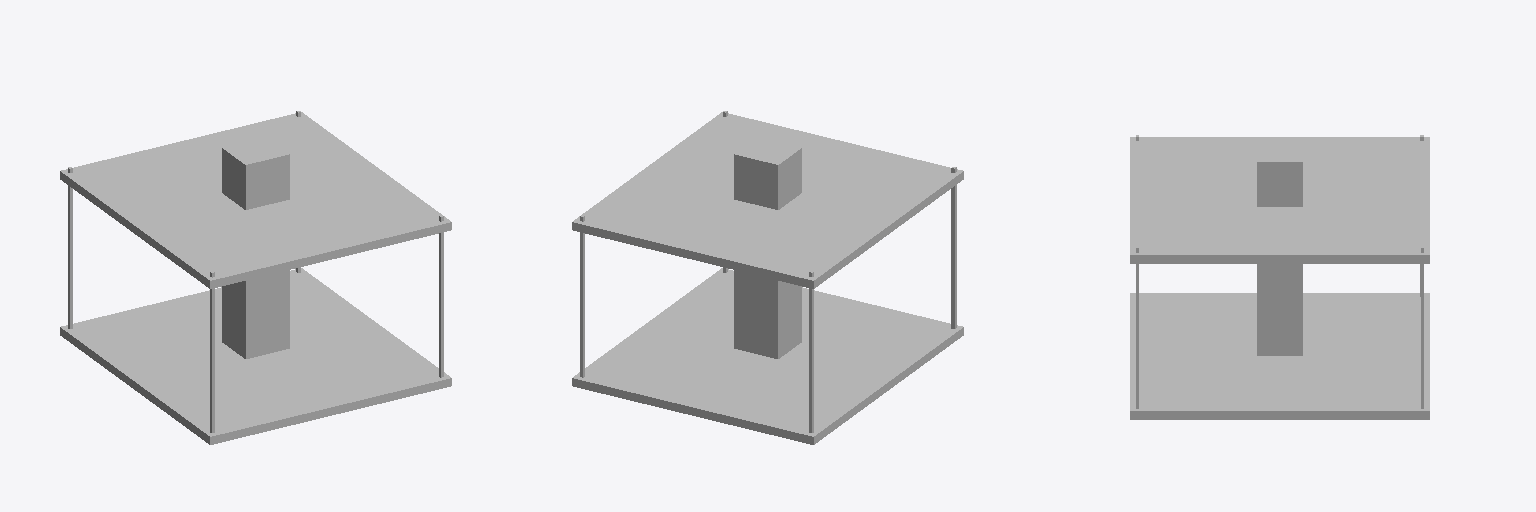
The model's file is cell3.2.hb.obj.
3 views of the same model, side by side, from view 1: azimuth 30°, elevation 25°; view 2: azimuth 150°, elevation 25°; view 3: azimuth 270°, elevation 25° (orthographic).
Parts seen in each view (by area): view 1: floor.002_Cube.005, floor.003_Cube.020, Cube.003_Cube.007, Cube.004_Cube.022, Cube.006_Cube.024, Cube.005_Cube.023; view 2: floor.002_Cube.005, floor.003_Cube.020, Cube.003_Cube.007, Cube.006_Cube.024, Cube.002_Cube.021, Cube.005_Cube.023; view 3: floor.002_Cube.005, floor.003_Cube.020, Cube.003_Cube.007.
Boxes of the visible parts, <box> form: floor.002_Cube.005: <box>60,112,451,288</box>; floor.003_Cube.020: <box>60,268,451,444</box>; Cube.003_Cube.007: <box>222,137,289,358</box>; Cube.004_Cube.022: <box>439,215,443,377</box>; Cube.006_Cube.024: <box>210,271,214,432</box>; Cube.005_Cube.023: <box>68,167,72,328</box>; floor.002_Cube.005: <box>572,112,963,288</box>; floor.003_Cube.020: <box>572,268,963,444</box>; Cube.003_Cube.007: <box>734,137,801,358</box>; Cube.006_Cube.024: <box>951,167,956,328</box>; Cube.002_Cube.021: <box>580,215,584,377</box>; Cube.005_Cube.023: <box>809,271,813,432</box>; floor.002_Cube.005: <box>1130,137,1429,263</box>; floor.003_Cube.020: <box>1130,293,1429,419</box>; Cube.003_Cube.007: <box>1257,141,1302,355</box>.
Size of the model in its own units: 12 by 9.93 by 12.93.